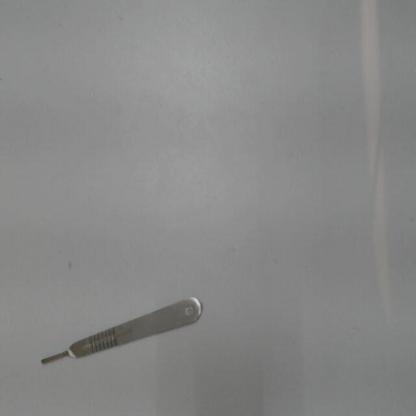No.3 BP Handle: (35, 276, 214, 380)
